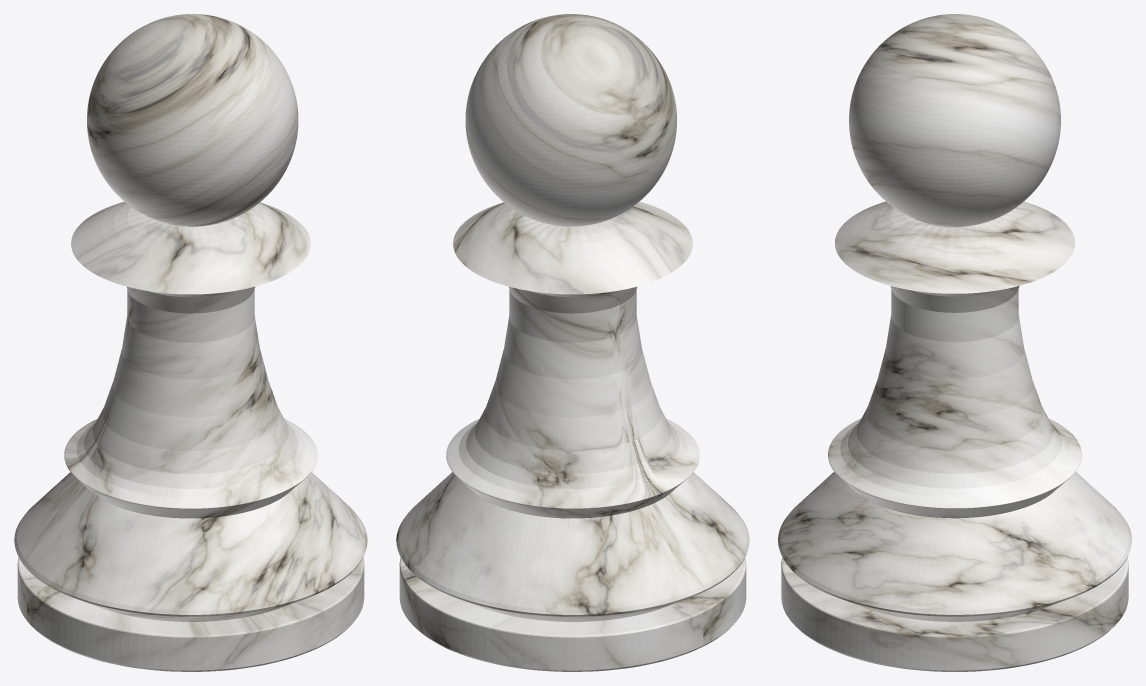
The model's file is pawn.obj.
3 renders of one model, left to right at view 1: azimuth 30°, elevation 25°; view 2: azimuth 150°, elevation 25°; view 3: azimuth 270°, elevation 25°, orthographic.
Visible parts, largest first — view 1: Cylinder; view 2: Cylinder; view 3: Cylinder.
Part boxes in pixels (<box>): Cylinder: <box>14,14,367,671</box>; Cylinder: <box>396,14,749,671</box>; Cylinder: <box>778,14,1131,671</box>.
Size of the model in its own units: 2.03 by 3.68 by 2.03.
1 material, 1 textured.
